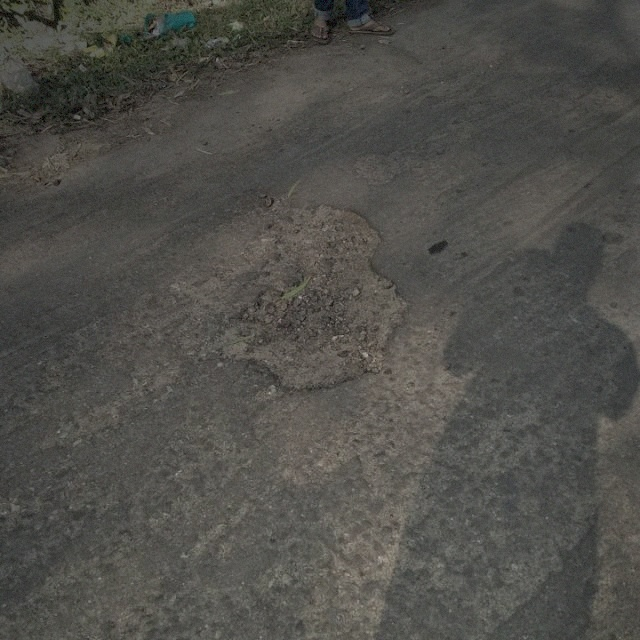pothole: (212, 195, 412, 396), (352, 148, 410, 186)
